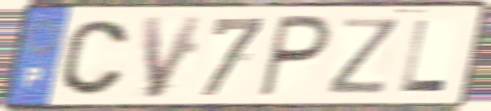7: (198, 16, 268, 98)
C: (57, 17, 133, 98)
L: (397, 17, 451, 94)
P: (255, 12, 334, 101)
V: (139, 13, 208, 102)
Z: (323, 16, 403, 97)
